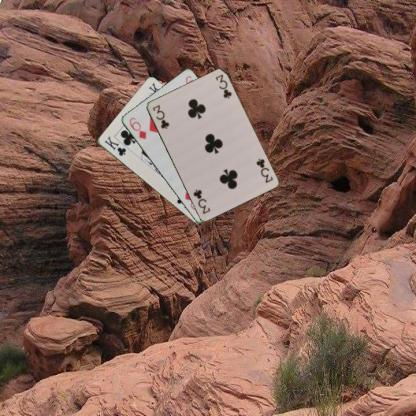3c: (150, 102, 171, 130), (253, 156, 274, 184)
6d: (126, 115, 148, 140)
Kc: (102, 134, 127, 157)
